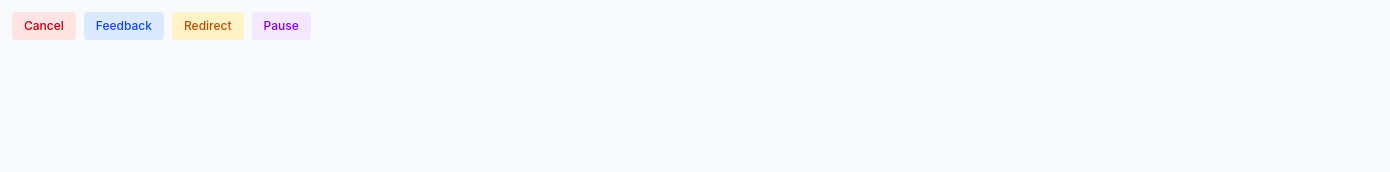
Test: InterventionPanel › clicking Pause opens inline input with correct placeholder
Click the button "Pause" at [281, 26], box [252,12,311,40]
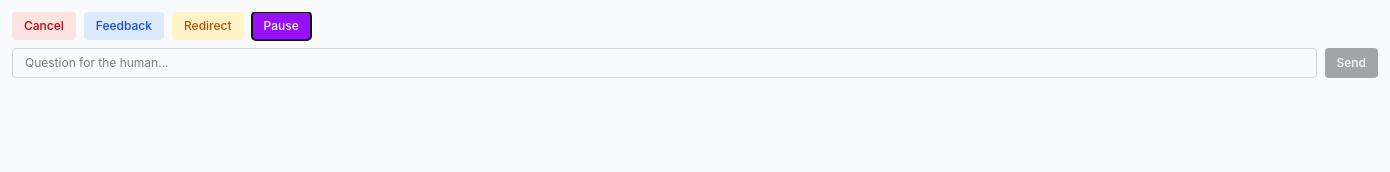
Now the field with placeholder "Question for the human..." is shown, box [12,48,1317,78]
